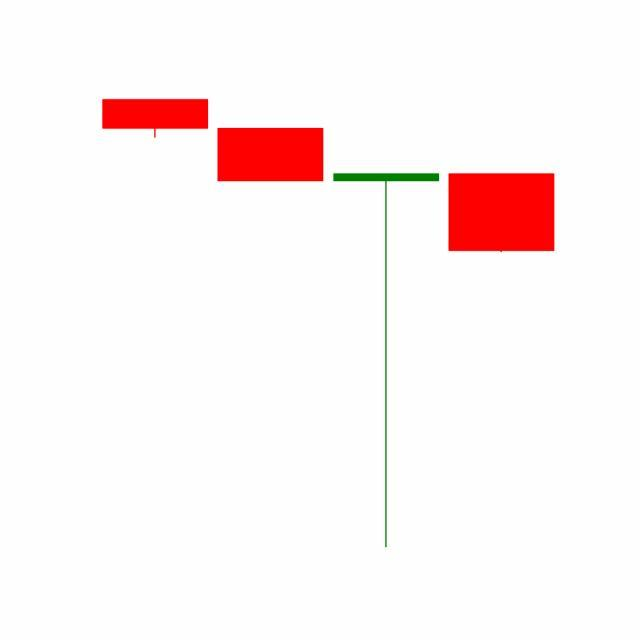Dragonfly Doji: (329, 170, 445, 552)
